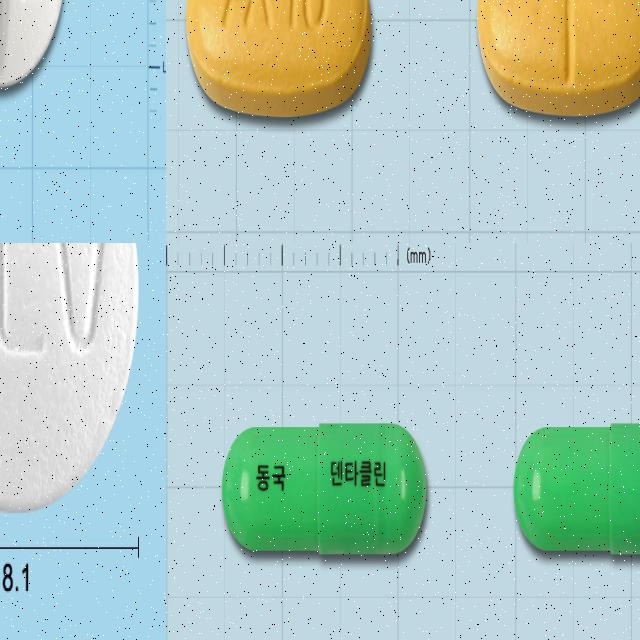Clarid - 500mg: (182, 0, 375, 127), (474, 0, 640, 123)
Clevote: (0, 243, 139, 513)
Dentacline Cap: (221, 420, 428, 556), (512, 419, 640, 556)
